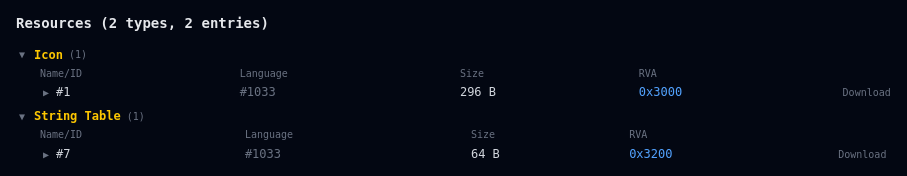
Test case: ResourcesView — collapsing and expanding › starts every type group open and collapses the one that is clicked
The width and height of the screenshot is (907, 176).
Click the button named "Icon(1)": (52,55) x1=16 y1=45 x2=87 y2=65
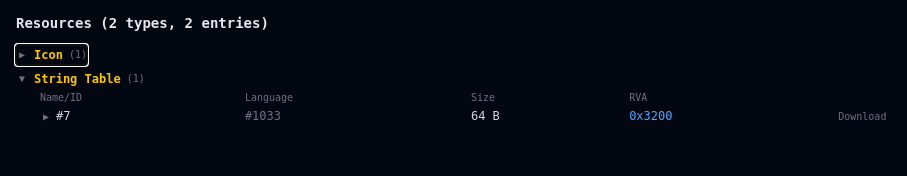
Check: the button named "Icon(1)" reads "▶ Icon (1)", box x1=16 y1=45 x2=87 y2=65
